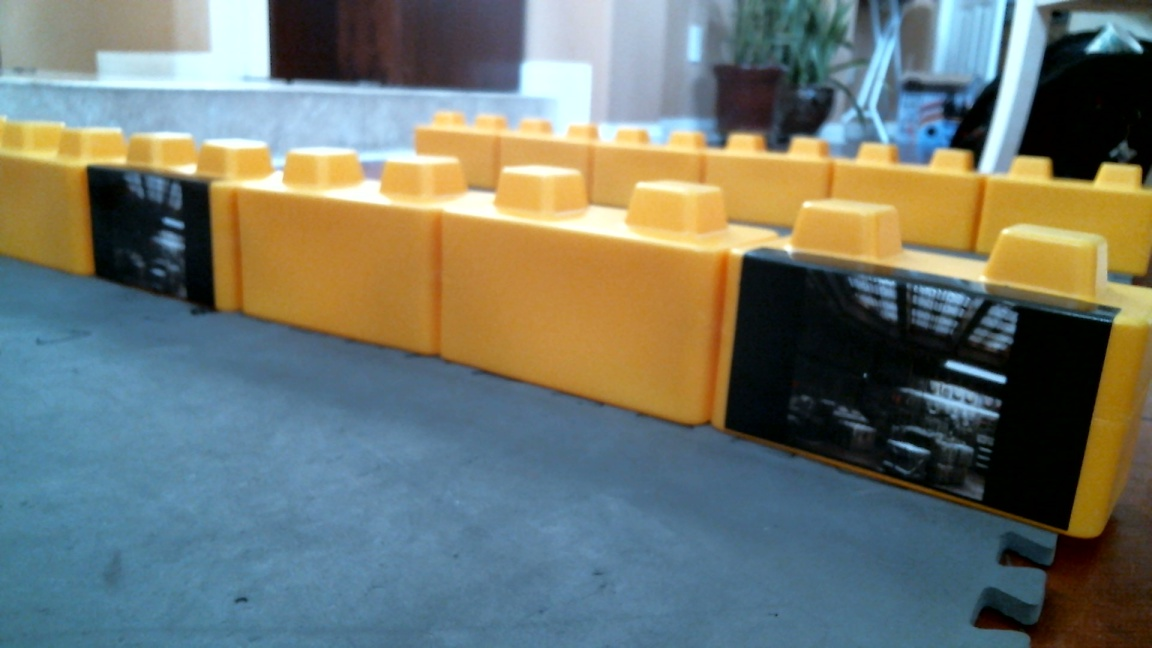skystone: (744, 195, 1107, 547), (92, 122, 229, 311)
stone: (431, 158, 709, 438), (231, 143, 438, 368), (1, 115, 86, 277)
